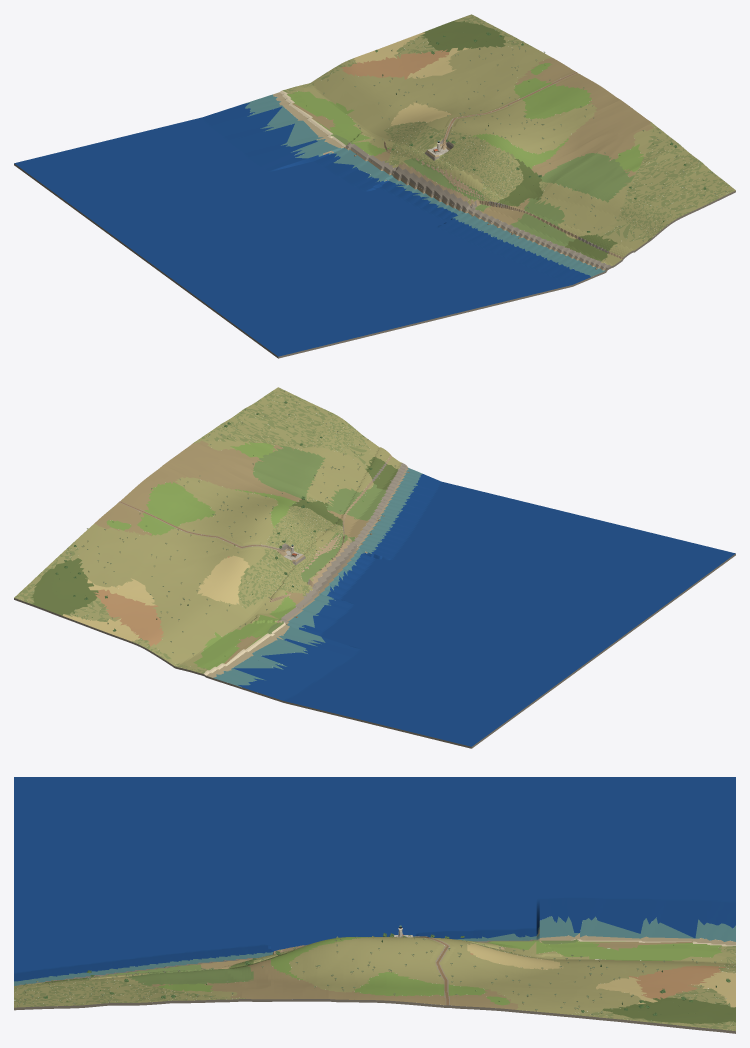
Rendered from parca_-1_+1-yakin.glb.
3 views of the same model, one above another, from view 1: azimuth 30°, elevation 25°; view 2: azimuth 150°, elevation 25°; view 3: azimuth 270°, elevation 25° (orthographic). The views are drawn at different scales.
Visible parts, largest first — view 1: parca_-1_+1_arazi, parca_-1_+1_bitkiler; view 2: parca_-1_+1_arazi, parca_-1_+1_bitkiler; view 3: parca_-1_+1_arazi, parca_-1_+1_bitkiler.
Part boxes in pixels (x1,y1,x2,y2): parca_-1_+1_arazi: [14, 14, 735, 358]; parca_-1_+1_bitkiler: [306, 32, 726, 259]; parca_-1_+1_arazi: [14, 387, 735, 748]; parca_-1_+1_bitkiler: [24, 390, 395, 654]; parca_-1_+1_arazi: [14, 777, 735, 1033]; parca_-1_+1_bitkiler: [18, 933, 733, 1025].
Size of the model in its own units: 1001 by 132 by 1000.
